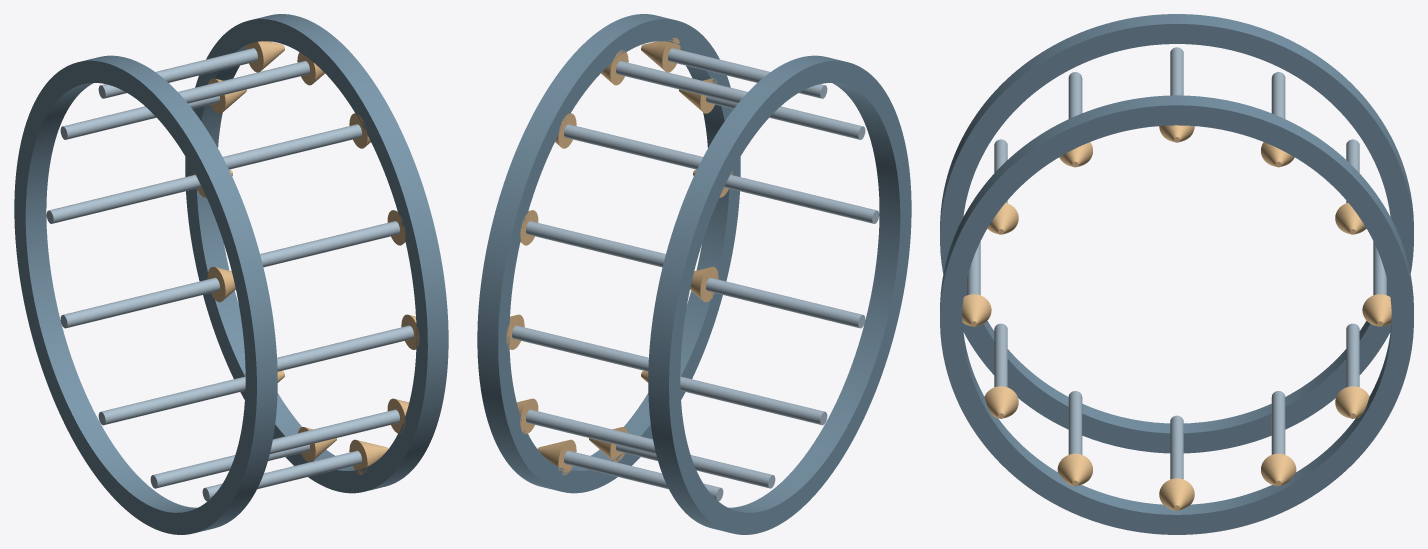
Rendered from afterburner-assembly.glb.
The picture shows the model from 3 angles, left to right: view 1: azimuth 30°, elevation 25°; view 2: azimuth 150°, elevation 25°; view 3: azimuth 270°, elevation 25°; orthographic projection. The views are drawn at different scales.
Parts seen in each view (by area): view 1: afterburner-assembly - shell, afterburner-assembly - steel, afterburner-assembly - bronze; view 2: afterburner-assembly - shell, afterburner-assembly - steel, afterburner-assembly - bronze; view 3: afterburner-assembly - shell, afterburner-assembly - bronze, afterburner-assembly - steel.
Boxes of the visible parts, bbox=[...] form: afterburner-assembly - shell: bbox=[14, 14, 448, 534]; afterburner-assembly - steel: bbox=[46, 48, 413, 501]; afterburner-assembly - bronze: bbox=[193, 37, 419, 474]; afterburner-assembly - shell: bbox=[477, 14, 911, 534]; afterburner-assembly - steel: bbox=[512, 48, 879, 501]; afterburner-assembly - bronze: bbox=[506, 37, 732, 474]; afterburner-assembly - shell: bbox=[940, 14, 1413, 534]; afterburner-assembly - bronze: bbox=[962, 125, 1391, 510]; afterburner-assembly - steel: bbox=[967, 47, 1386, 479].
Size of the model in its own units: 0.865 by 1.82 by 1.82.
